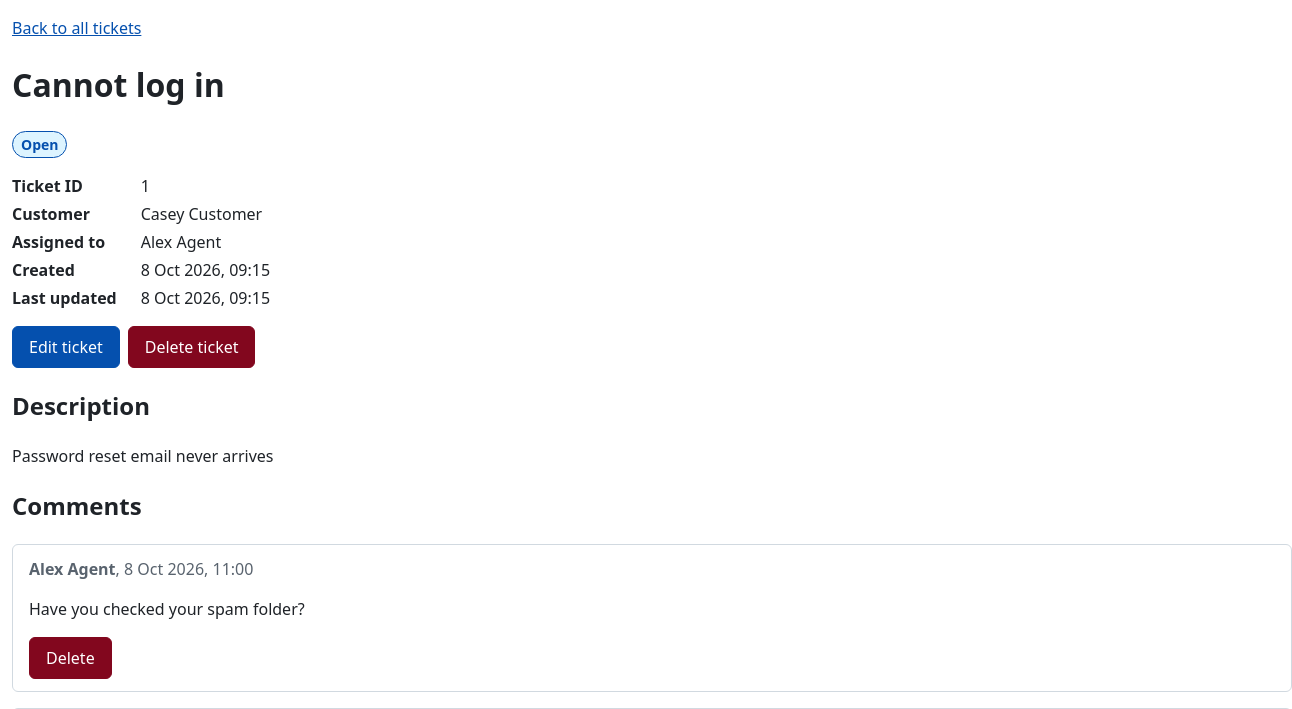
Test: TicketDetailPage › comments › removes a comment when its Delete button is clicked and confirmed
Check: the heading "Cannot log in" is shown, box [12, 63, 225, 106]
Click the button with aria-label "Delete comment by Alex Agent".
click(70, 658)  # box [29, 636, 112, 678]
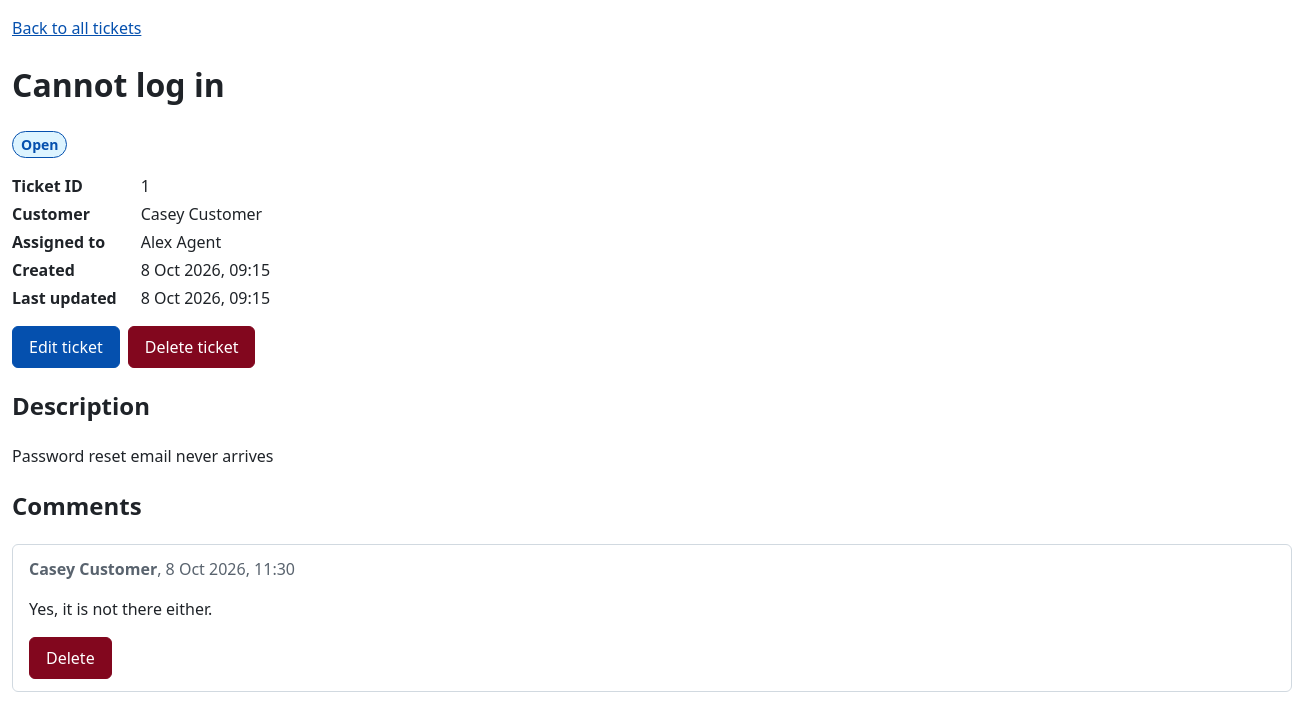
Check: the text "Have you checked your spam folder?" is gone
Check: the number of list items is 1, box [12, 544, 1291, 692]
